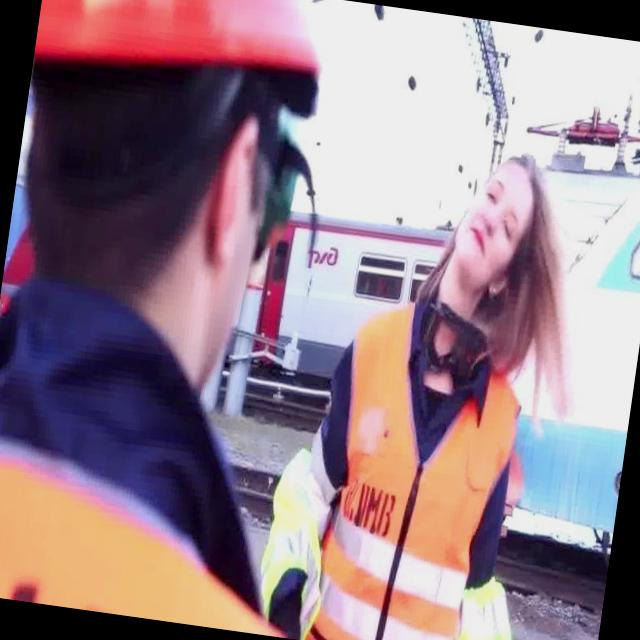vest: (309, 302, 534, 640)
